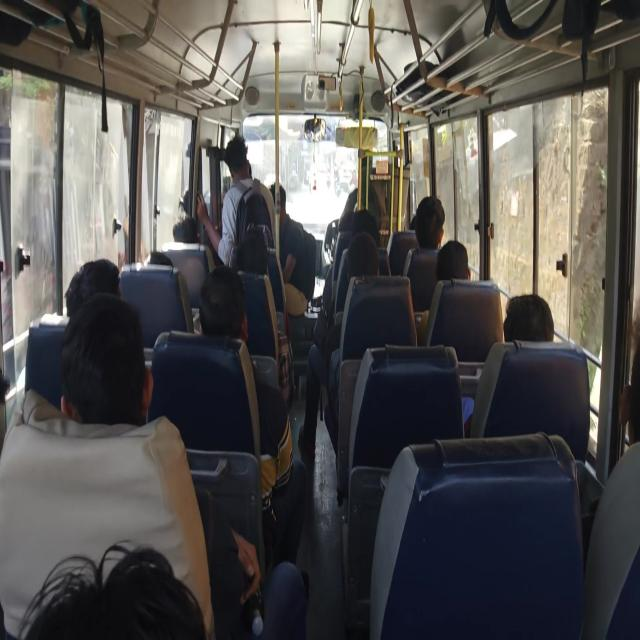person: (48, 529, 244, 640), (63, 312, 161, 438), (609, 323, 640, 532), (196, 275, 248, 368), (498, 289, 557, 354), (219, 149, 261, 229), (262, 182, 306, 237), (76, 260, 120, 308), (438, 235, 473, 282), (411, 200, 444, 247), (349, 241, 379, 292), (234, 251, 269, 294), (139, 241, 182, 276), (241, 236, 280, 272), (356, 217, 385, 248), (177, 212, 194, 240), (406, 212, 425, 234)
